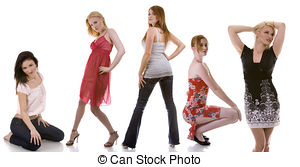face: (244, 16, 285, 52), (11, 50, 44, 82), (85, 5, 108, 36), (189, 34, 212, 60), (142, 4, 166, 26)
